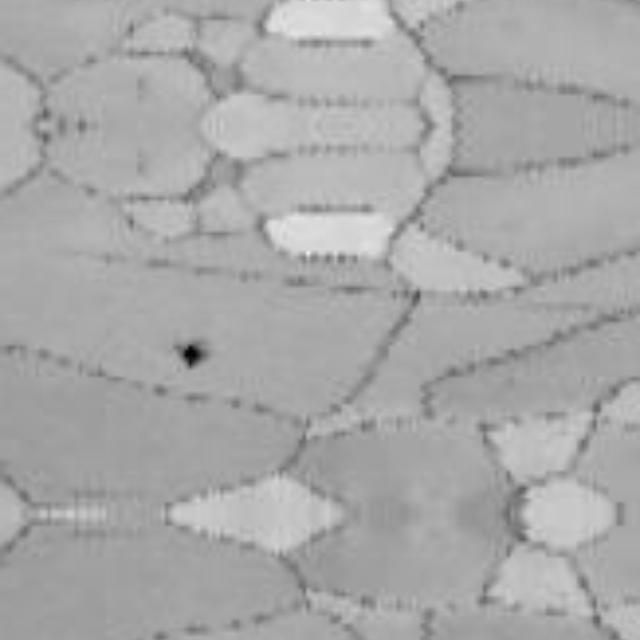good_void: (166, 334, 214, 377)
